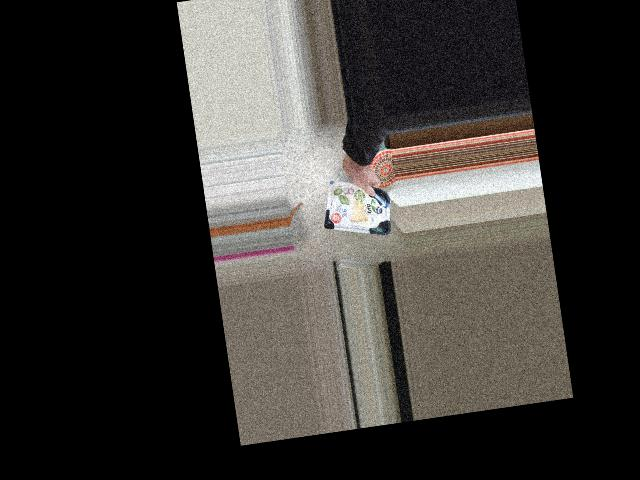cheese: (321, 172, 395, 243)
